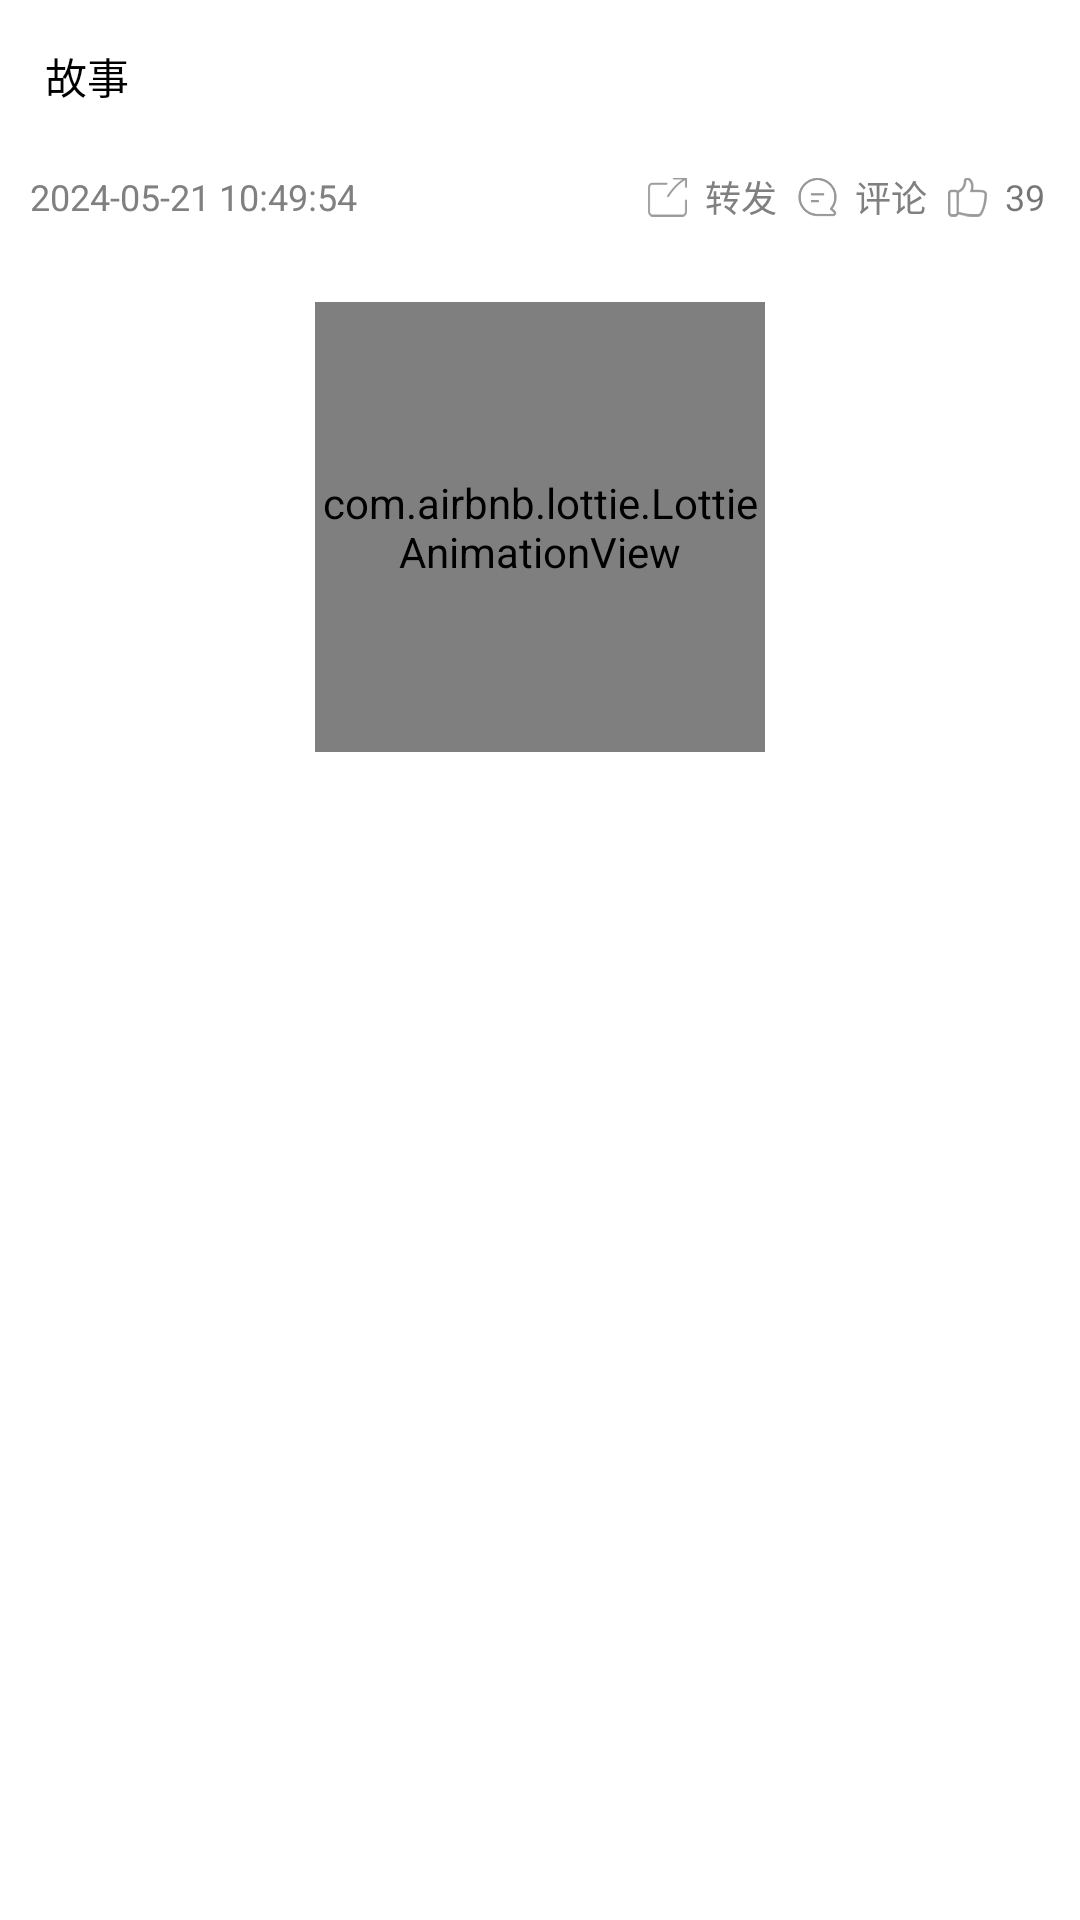

Point at icon controls on the screen. Image size 1080x1920, points as [x,y].
like: [967,197]
